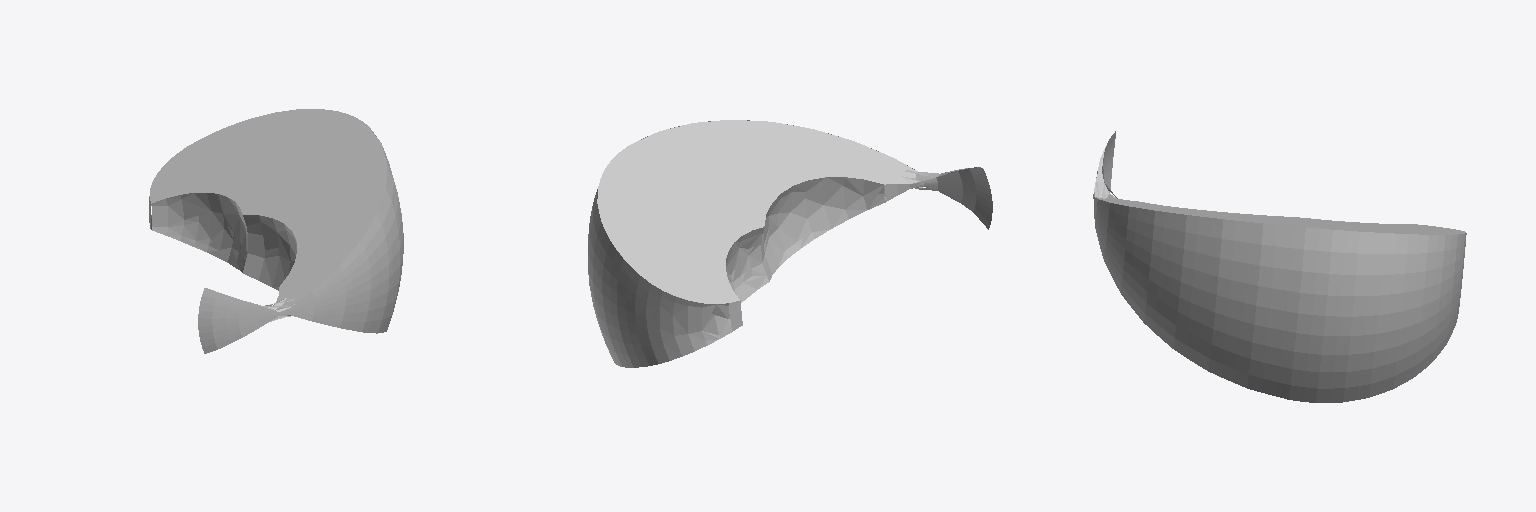
The model's file is index_workspace_concave_hull.obj.
3 renders of one model, left to right at view 1: azimuth 30°, elevation 25°; view 2: azimuth 150°, elevation 25°; view 3: azimuth 270°, elevation 25°, orthographic.
Bounding box in the file's own units: 0.1844 × 0.1122 × 0.2111.